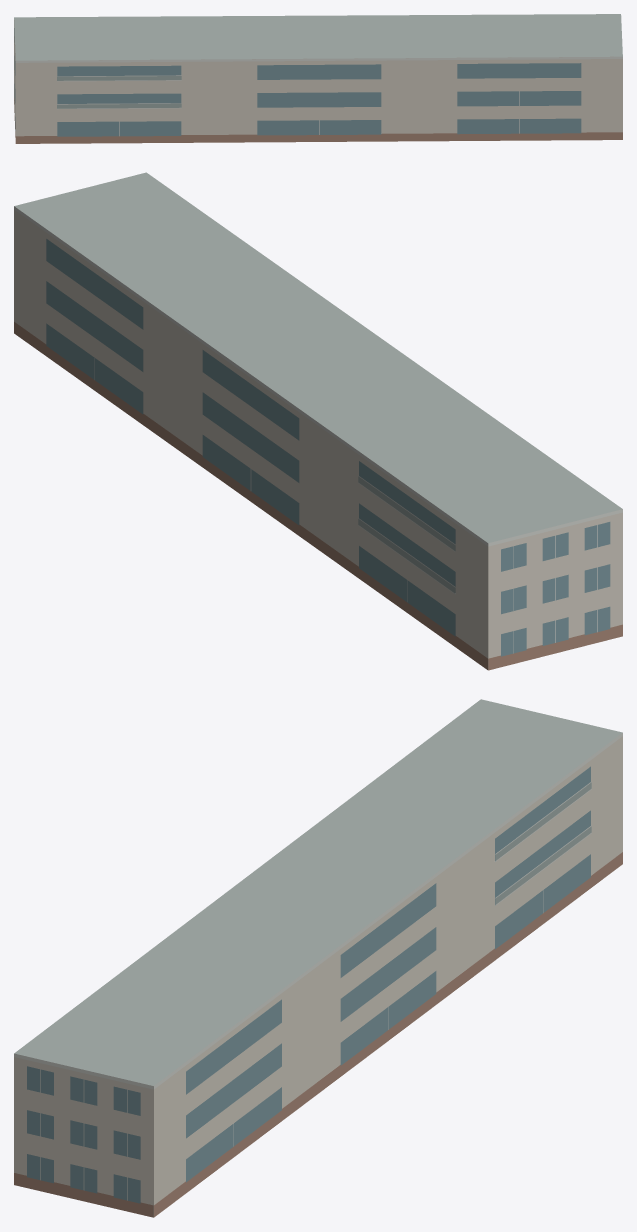
The model's file is survey-upis-32994277.glb.
3 views of the same model, one above another, from view 1: azimuth 30°, elevation 25°; view 2: azimuth 150°, elevation 25°; view 3: azimuth 270°, elevation 25° (orthographic). The views are drawn at different scales.
Visible parts, largest first — view 1: survey-upis-32994277.tmp; view 2: survey-upis-32994277.tmp; view 3: survey-upis-32994277.tmp.
Part boxes in pixels (x1,y1,x2,y2): survey-upis-32994277.tmp: (14,14,622,143); survey-upis-32994277.tmp: (14,172,622,670); survey-upis-32994277.tmp: (14,699,622,1217).
Size of the model in its own units: 57.72 by 9.15 by 38.39.
